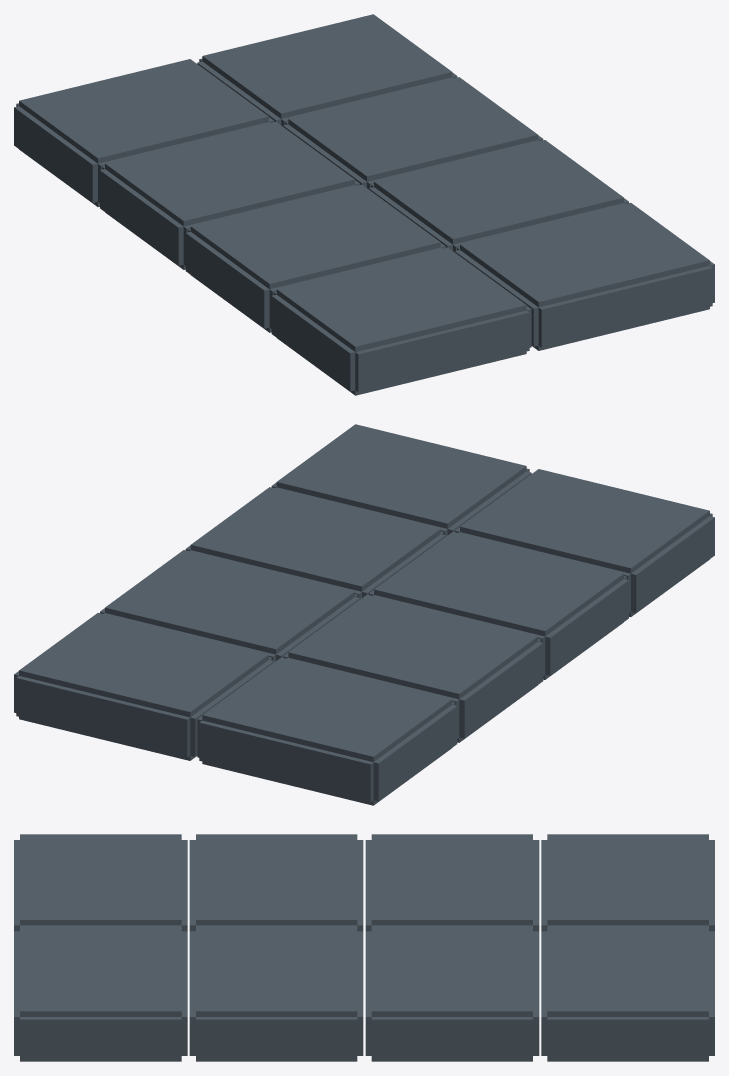
Rendered from foundry-slab-v01.glb.
3 renders of one model, top to bottom at view 1: azimuth 30°, elevation 25°; view 2: azimuth 150°, elevation 25°; view 3: azimuth 270°, elevation 25°, orthographic. The views are drawn at different scales.
Visible parts, largest first — view 1: Foundry Basalt • blue grey bevels; view 2: Foundry Basalt • blue grey bevels; view 3: Foundry Basalt • blue grey bevels.
Part boxes in pixels (left/top/right/bottom): Foundry Basalt • blue grey bevels: left=14, top=14, right=714, bottom=395; Foundry Basalt • blue grey bevels: left=14, top=424, right=714, bottom=805; Foundry Basalt • blue grey bevels: left=14, top=834, right=714, bottom=1061.
Bounding box in the file's own units: 3.9 × 0.5 × 6.34.
